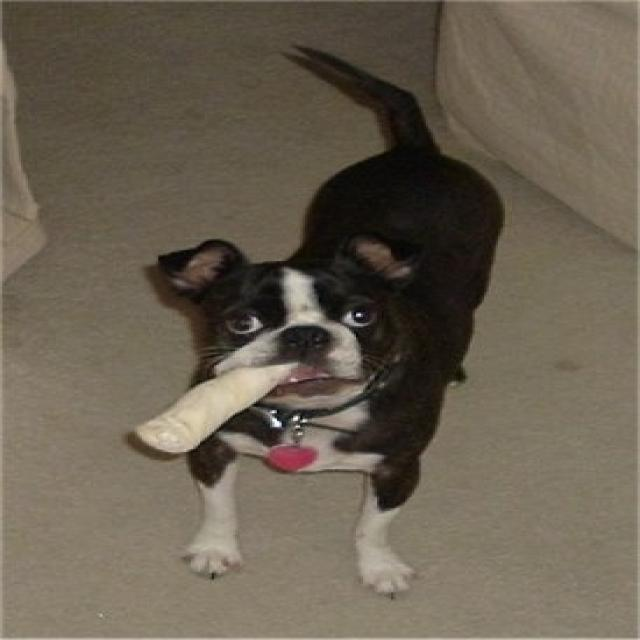dog: (84, 227, 525, 483)
